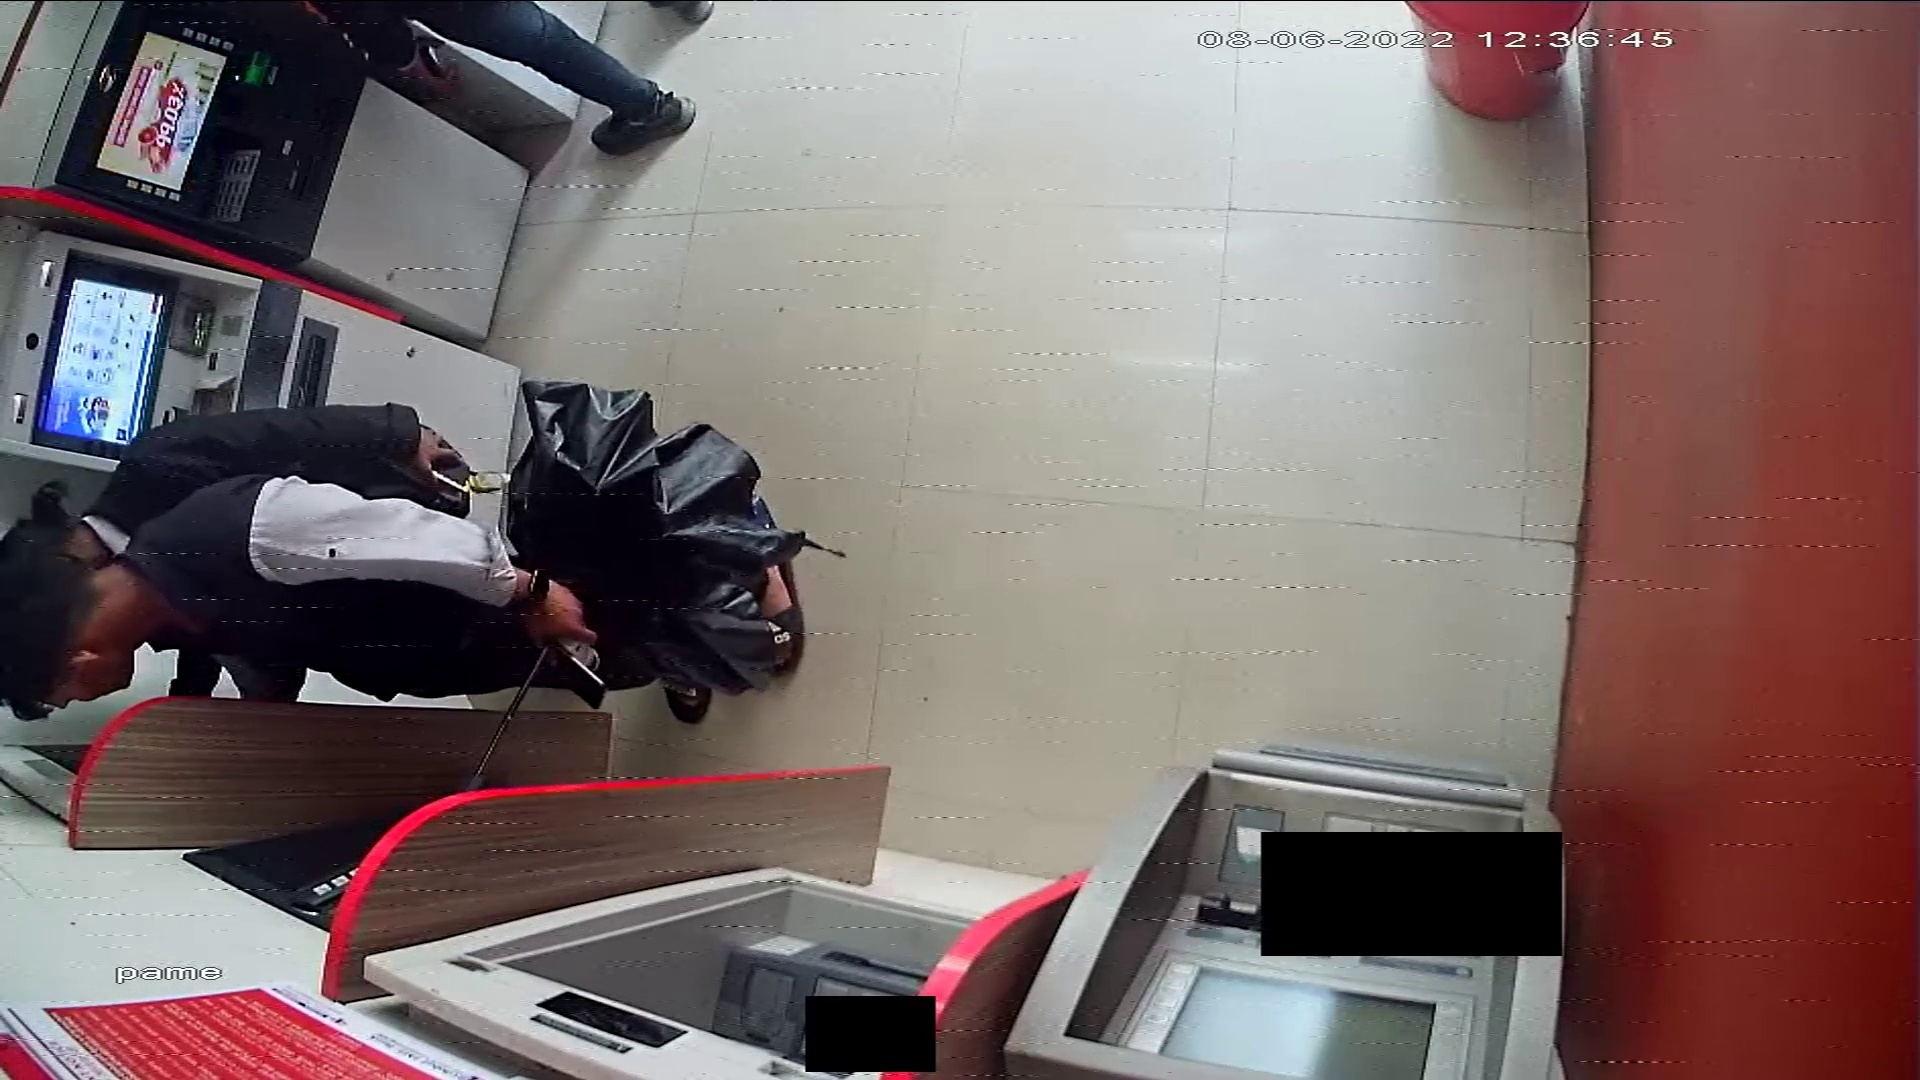person: (1, 471, 814, 721), (406, 1, 712, 160)
